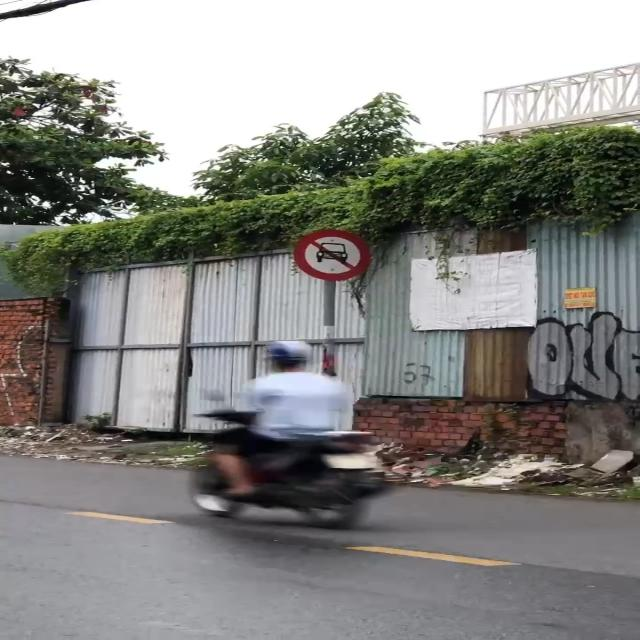Bien bao cam xe oto: (290, 225, 378, 281)
